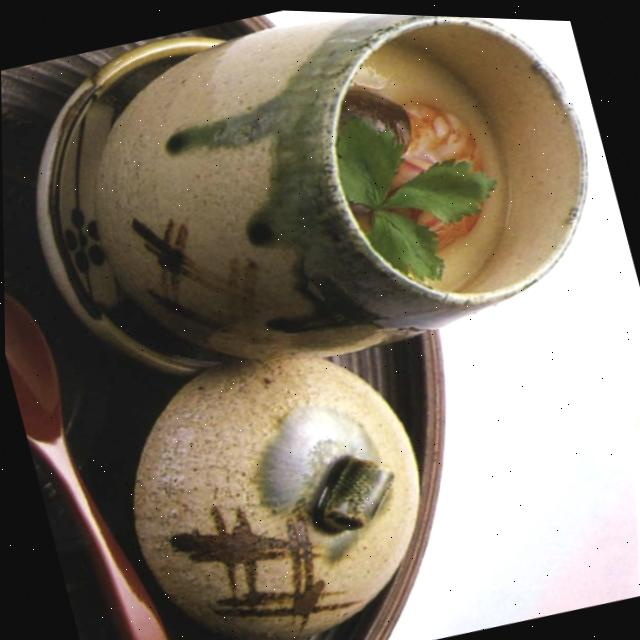鸡蛋料理: (10, 0, 625, 415)
